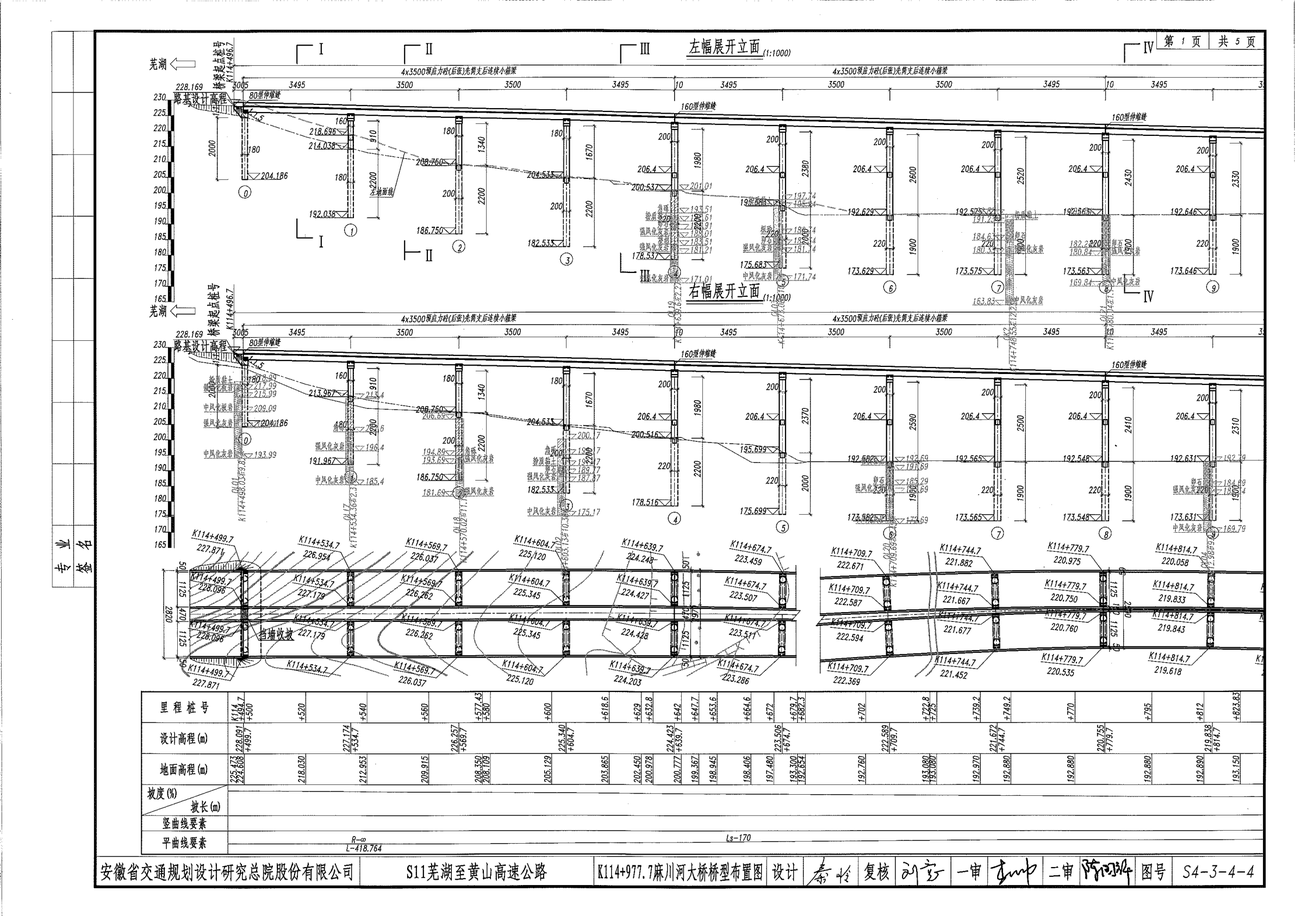A: (135, 36, 1281, 317), (130, 283, 1285, 547)
